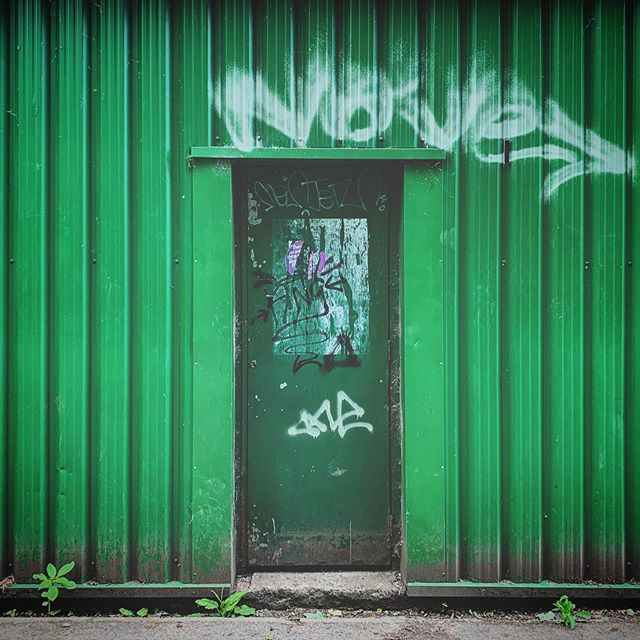door: (236, 157, 399, 585)
graffiti: (207, 50, 635, 196), (258, 263, 335, 377), (246, 167, 382, 231), (277, 378, 375, 447)
